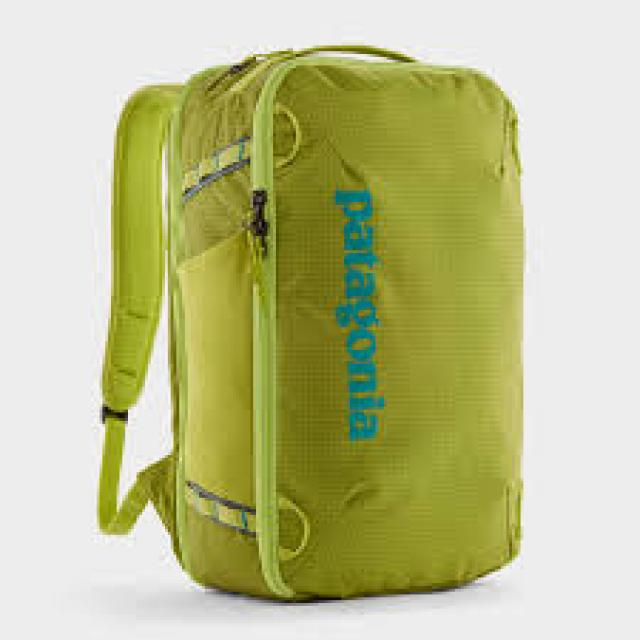backpack: (98, 44, 524, 602)
